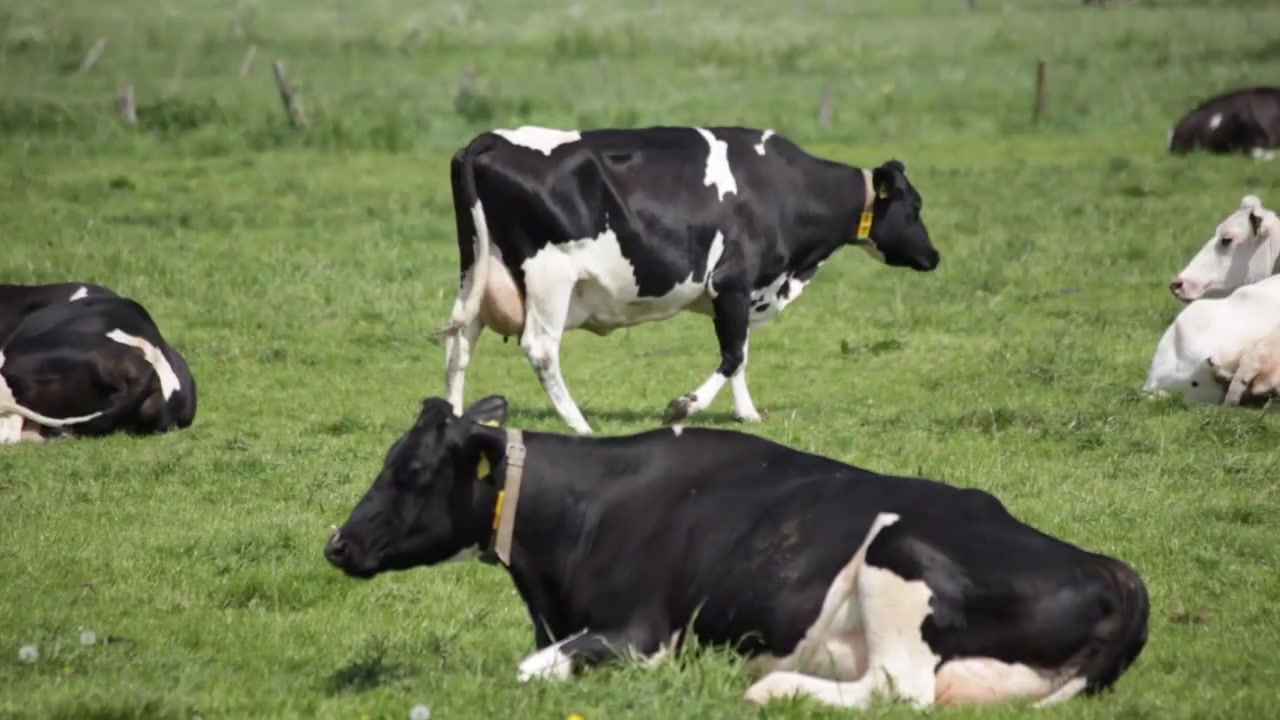cow: (439, 119, 941, 436)
